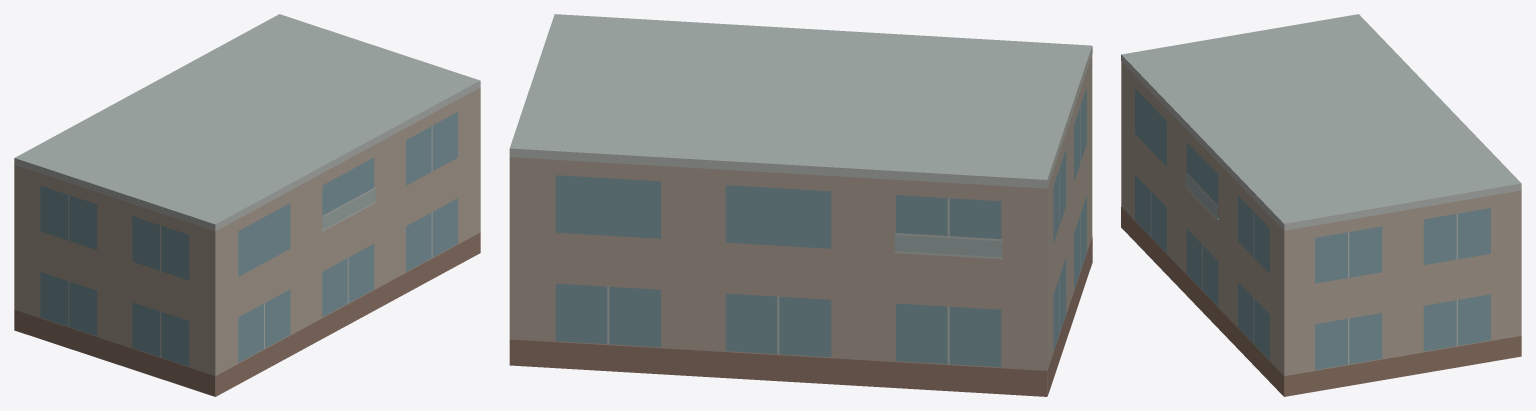
Rendered from survey-upis-32936001.glb.
3 views of the same model, side by side, from view 1: azimuth 30°, elevation 25°; view 2: azimuth 150°, elevation 25°; view 3: azimuth 270°, elevation 25° (orthographic). The views are drawn at different scales.
Visible parts, largest first — view 1: survey-upis-32936001.tmp; view 2: survey-upis-32936001.tmp; view 3: survey-upis-32936001.tmp.
Part boxes in pixels (x1,y1,x2,y2): survey-upis-32936001.tmp: (14, 14, 480, 396); survey-upis-32936001.tmp: (509, 14, 1092, 396); survey-upis-32936001.tmp: (1121, 14, 1521, 396).
Size of the model in its own units: 15.89 by 6.1 by 12.81.
